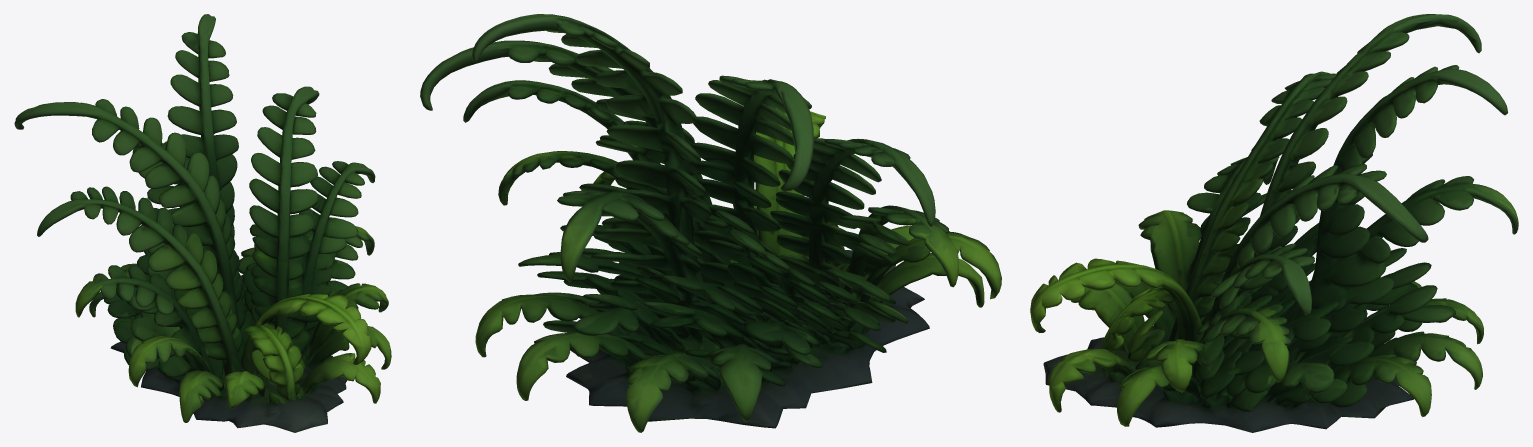
File: fren1.glb
3 renders of one model, left to right at view 1: azimuth 30°, elevation 25°; view 2: azimuth 150°, elevation 25°; view 3: azimuth 270°, elevation 25°, orthographic. The views are drawn at different scales.
Visible parts, largest first — view 1: node_0; view 2: node_0; view 3: node_0.
Part boxes in pixels (left/top/right/bottom): node_0: left=14, top=14, right=391, bottom=432; node_0: left=420, top=14, right=1001, bottom=432; node_0: left=1030, top=14, right=1518, bottom=432.
Size of the model in its own units: 0.9261 by 0.7353 by 0.9619.
Materials: 1 (1 with a texture image).
